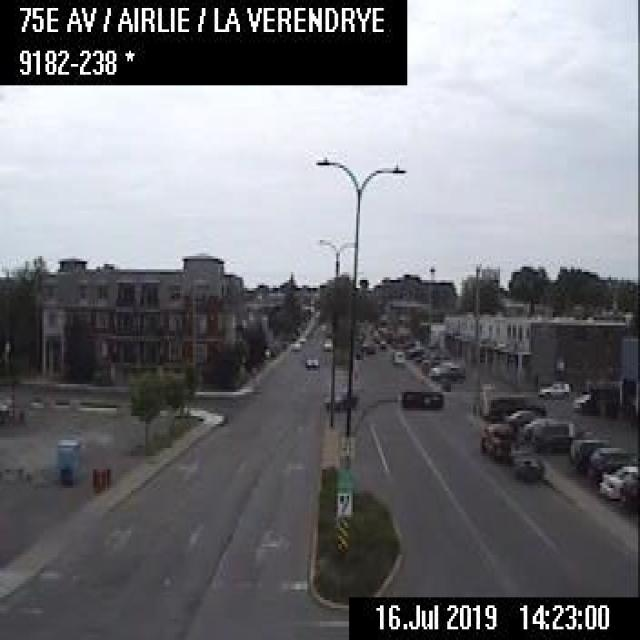construction: (94, 467, 100, 491), (99, 466, 105, 489), (104, 465, 109, 488), (90, 466, 94, 488)
vehicle: (533, 418, 590, 449), (585, 446, 635, 480), (568, 433, 614, 467), (477, 420, 516, 460), (597, 463, 638, 497), (319, 376, 358, 408), (509, 448, 542, 480), (428, 360, 464, 383), (504, 407, 542, 428), (534, 378, 571, 395), (389, 347, 407, 365), (405, 344, 426, 356), (303, 352, 318, 368), (322, 338, 332, 348), (290, 339, 300, 349)
